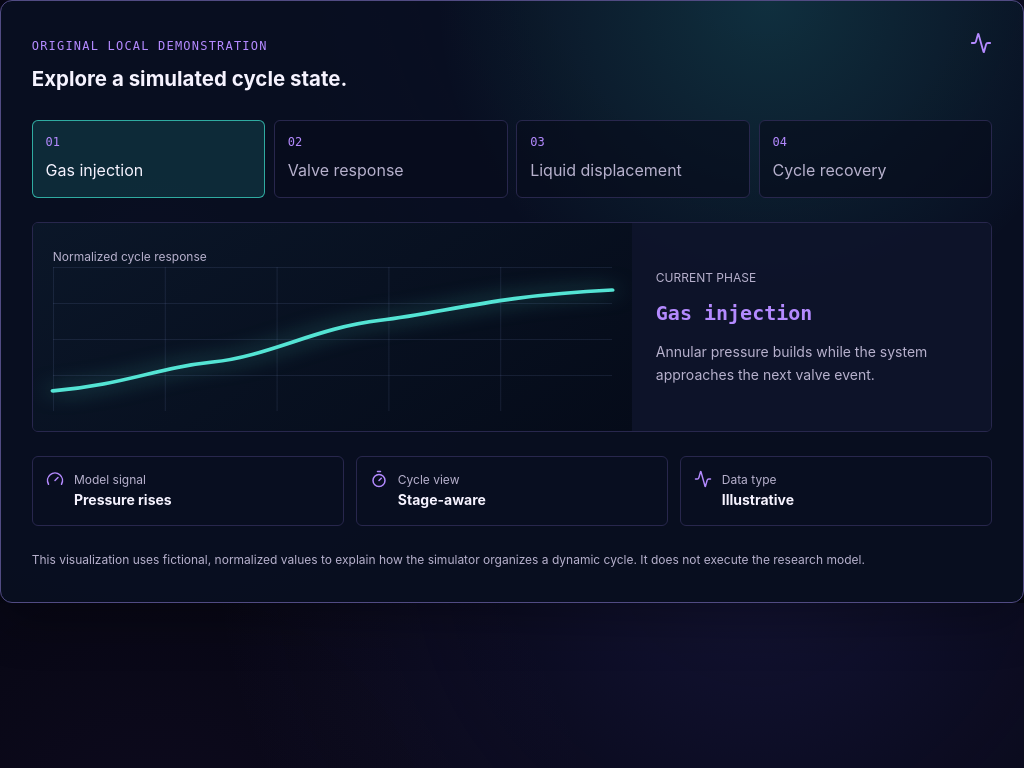
CycleExplorerDemo › updates the visible cycle state when a phase is selected
Click the button "03 Liquid displacement": (633, 159) [516, 120, 750, 198]
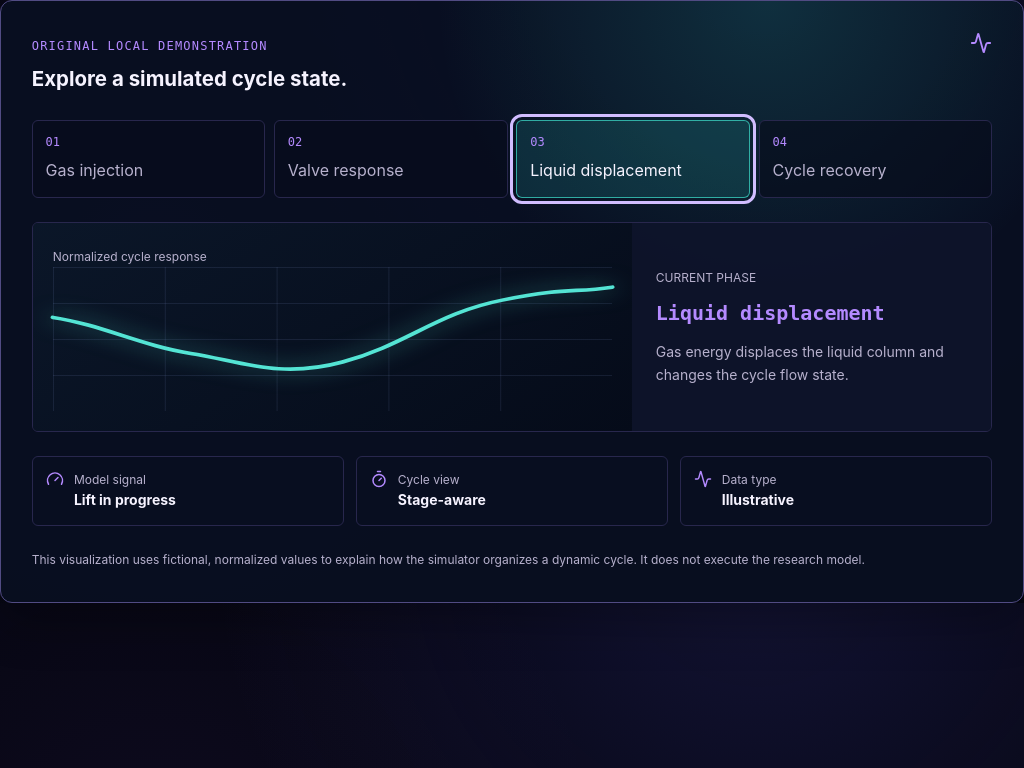
expect the text "Lift in progress" is shown: met, box [74, 491, 176, 508]
expect the text "Gas energy displaces the liquid column and changes the cycle flow state." is shown: met, box [656, 340, 967, 386]
